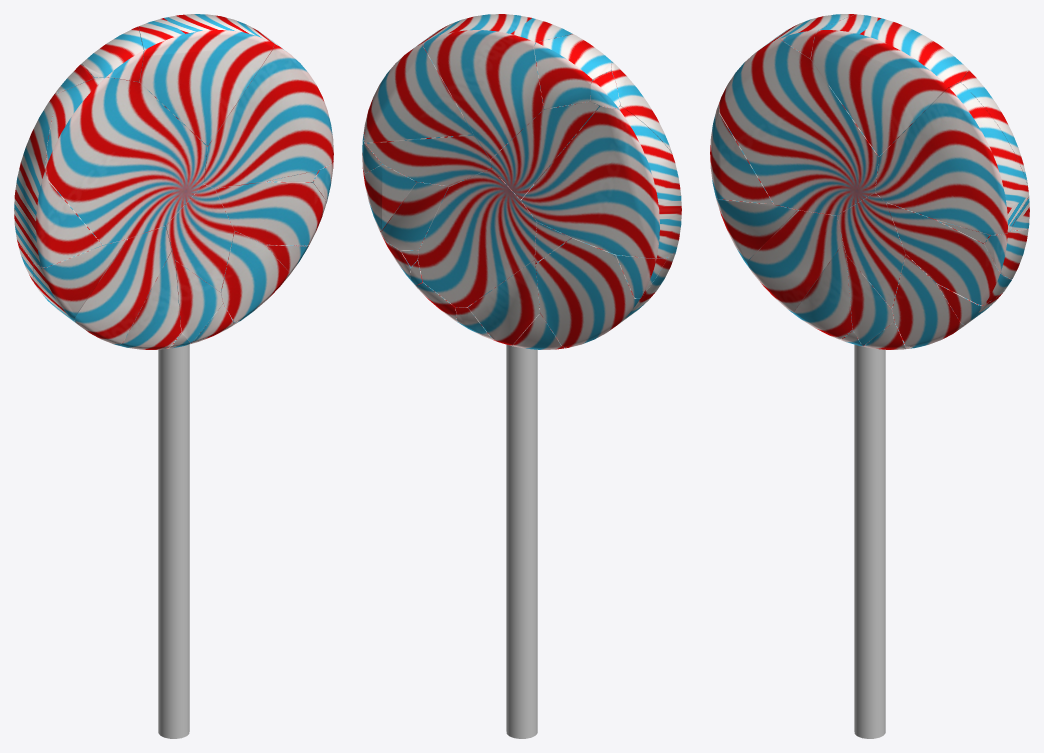
File: Lolipop Fractures.fbx
The picture shows the model from 3 angles, left to right: view 1: azimuth 30°, elevation 25°; view 2: azimuth 150°, elevation 25°; view 3: azimuth 330°, elevation 25°; orthographic projection.
Visible parts, largest first — view 1: Lolipop Top_cell.022, Lolipop Stem, Lolipop Top_cell.007, Lolipop Top_cell.015, Lolipop Top_cell.019, Lolipop Top_cell.021, Lolipop Top_cell.018, Lolipop Top_cell.009, Lolipop Top_cell.004, Lolipop Top_cell.006, Lolipop Top_cell.014, Lolipop Top_cell.011 (+3 smaller); view 2: Lolipop Top_cell.019, Lolipop Stem, Lolipop Top_cell.015, Lolipop Top_cell.009, Lolipop Top_cell.006, Lolipop Top_cell.028, Lolipop Top_cell.022, Lolipop Top_cell.007, Lolipop Top_cell.013, Lolipop Top_cell.011, Lolipop Top_cell.018, Lolipop Top_cell.008 (+5 smaller); view 3: Lolipop Top_cell.022, Lolipop Top_cell.007, Lolipop Top_cell.015, Lolipop Stem, Lolipop Top_cell.018, Lolipop Top_cell.021, Lolipop Top_cell.009, Lolipop Top_cell.004, Lolipop Top_cell.014, Lolipop Top_cell.019, Lolipop Top_cell.006, Lolipop Top_cell.011 (+5 smaller).
Boxes of the visible parts, x1,y1,x2,y2 form: Lolipop Top_cell.022: (45,77,207,244); Lolipop Stem: (158,325,189,738); Lolipop Top_cell.007: (202,38,333,188); Lolipop Top_cell.015: (136,14,274,145); Lolipop Top_cell.019: (14,92,102,267); Lolipop Top_cell.021: (75,226,171,345); Lolipop Top_cell.018: (215,180,325,245); Lolipop Top_cell.009: (165,182,235,292); Lolipop Top_cell.004: (221,231,290,322); Lolipop Top_cell.006: (33,239,126,323); Lolipop Top_cell.014: (119,251,181,349); Lolipop Top_cell.011: (175,261,223,343); Lolipop Top_cell.019: (521,106,681,258); Lolipop Stem: (506,325,537,738); Lolipop Top_cell.015: (423,14,573,158); Lolipop Top_cell.009: (418,168,536,307); Lolipop Top_cell.006: (535,236,675,347); Lolipop Top_cell.028: (364,36,473,142); Lolipop Top_cell.022: (491,61,672,199); Lolipop Top_cell.007: (363,28,498,186); Lolipop Top_cell.013: (534,34,611,108); Lolipop Top_cell.011: (468,257,544,345); Lolipop Top_cell.018: (380,175,499,250); Lolipop Top_cell.008: (363,164,416,231); Lolipop Top_cell.022: (719,37,878,215); Lolipop Top_cell.007: (875,82,1029,234); Lolipop Top_cell.015: (811,14,968,156); Lolipop Stem: (854,329,885,738); Lolipop Top_cell.018: (886,203,1011,305); Lolipop Top_cell.021: (747,210,843,312); Lolipop Top_cell.009: (837,191,944,308); Lolipop Top_cell.004: (892,255,969,347); Lolipop Top_cell.014: (793,243,852,339); Lolipop Top_cell.019: (710,102,773,204); Lolipop Top_cell.006: (716,198,843,267); Lolipop Top_cell.011: (846,255,894,345).
Bounding box in the file's own units: 200 × 453 × 29.13.
